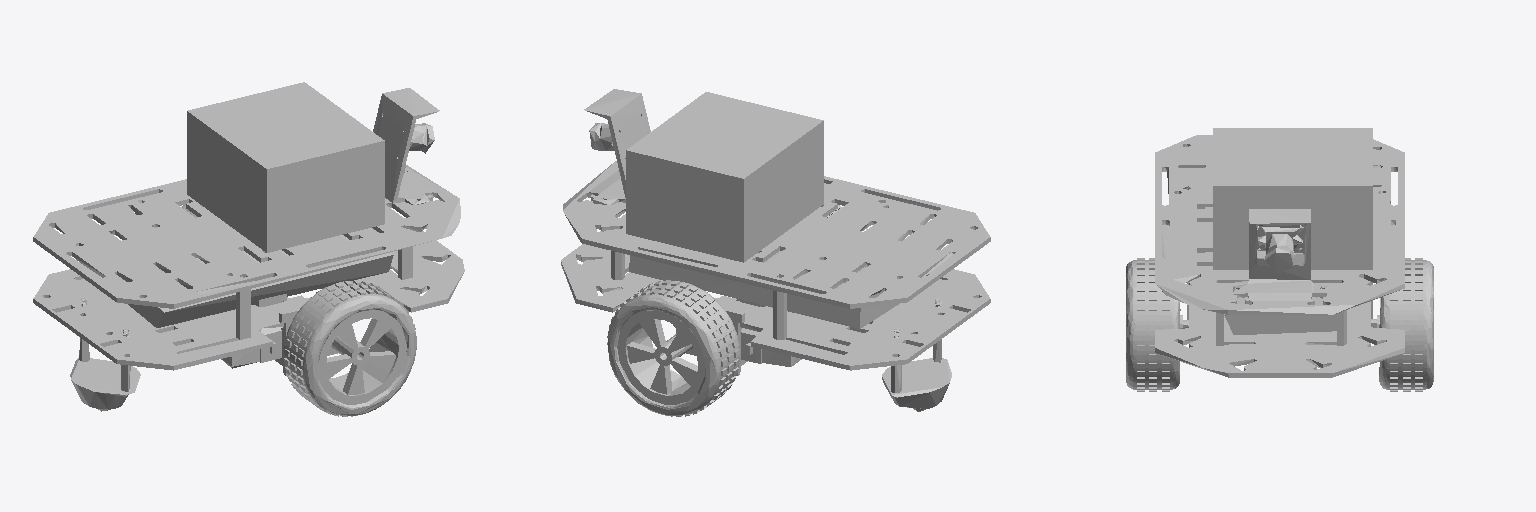
File: duckiebot.obj
The picture shows the model from 3 angles: view 1: azimuth 30°, elevation 25°; view 2: azimuth 150°, elevation 25°; view 3: azimuth 270°, elevation 25°; orthographic projection.
Visible parts, largest first — view 1: chassis_package://duckiebot_description/meshes_semantic/duckiebo, Cube_Cube.002, right_wheel_package://duckiebot_description/meshes_semantic/duck, camera_package://duckiebot_description/meshes_semantic/duckiebot; view 2: chassis_package://duckiebot_description/meshes_semantic/duckiebo, Cube_Cube.002, left_wheel_package://duckiebot_description/meshes_semantic/ducki, camera_package://duckiebot_description/meshes_semantic/duckiebot; view 3: chassis_package://duckiebot_description/meshes_semantic/duckiebo, Cube_Cube.002, camera_package://duckiebot_description/meshes_semantic/duckiebot, left_wheel_package://duckiebot_description/meshes_semantic/ducki, right_wheel_package://duckiebot_description/meshes_semantic/duck.
Boxes of the visible parts, <box> form: chassis_package://duckiebot_description/meshes_semantic/duckiebo: <box>33,165,464,411</box>; Cube_Cube.002: <box>187,82,384,252</box>; right_wheel_package://duckiebot_description/meshes_semantic/duck: <box>284,280,416,416</box>; camera_package://duckiebot_description/meshes_semantic/duckiebot: <box>373,88,439,204</box>; chassis_package://duckiebot_description/meshes_semantic/duckiebo: <box>561,161,990,411</box>; Cube_Cube.002: <box>626,92,823,262</box>; left_wheel_package://duckiebot_description/meshes_semantic/ducki: <box>607,280,739,416</box>; camera_package://duckiebot_description/meshes_semantic/duckiebot: <box>584,89,650,204</box>; chassis_package://duckiebot_description/meshes_semantic/duckiebo: <box>1155,135,1404,377</box>; Cube_Cube.002: <box>1213,128,1372,269</box>; camera_package://duckiebot_description/meshes_semantic/duckiebot: <box>1233,209,1326,300</box>; left_wheel_package://duckiebot_description/meshes_semantic/ducki: <box>1377,258,1433,391</box>; right_wheel_package://duckiebot_description/meshes_semantic/duck: <box>1126,258,1182,391</box>.
Size of the model in its own units: 0.1998 by 0.123 by 0.1472.